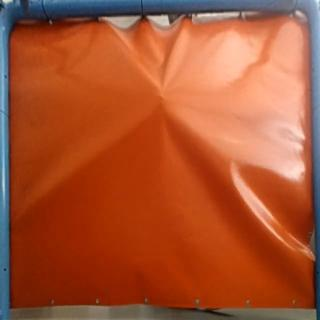Hit-hRxx: (152, 90, 171, 106)
